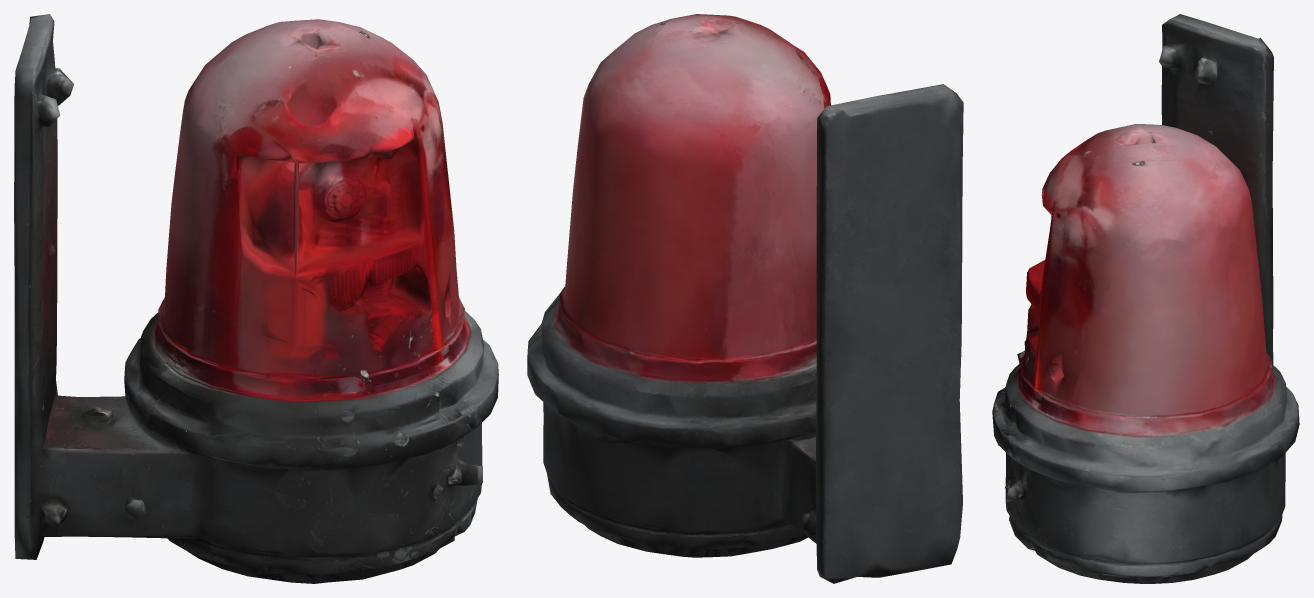
File: beacon_red.fbx
3 renders of one model, left to right at view 1: azimuth 30°, elevation 25°; view 2: azimuth 150°, elevation 25°; view 3: azimuth 270°, elevation 25°, orthographic. The views are drawn at different scales.
Parts seen in each view (by area): view 1: beacon_red; view 2: beacon_red; view 3: beacon_red.
Part boxes in pixels (left/top/right/bottom): beacon_red: left=14, top=14, right=498, bottom=583; beacon_red: left=527, top=14, right=963, bottom=583; beacon_red: left=992, top=14, right=1299, bottom=583.
Size of the model in its own units: 0.2757 by 0.3 by 0.2021.
1 material, 1 textured.
